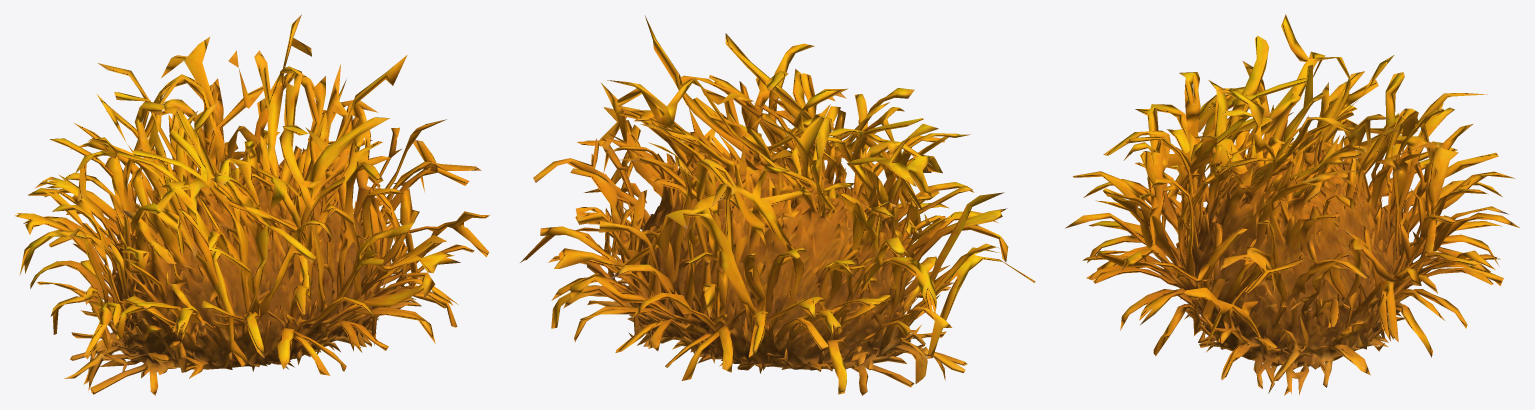
The model's file is 25_金黄色草丛_2048.fbx.
3 views of the same model, side by side, from view 1: azimuth 30°, elevation 25°; view 2: azimuth 150°, elevation 25°; view 3: azimuth 270°, elevation 25° (orthographic). The views are drawn at different scales.
Parts seen in each view (by area): view 1: tripo_node_a80b6877; view 2: tripo_node_a80b6877; view 3: tripo_node_a80b6877.
Part boxes in pixels (bbox=[...]): tripo_node_a80b6877: bbox=[14, 14, 489, 395]; tripo_node_a80b6877: bbox=[520, 16, 1035, 395]; tripo_node_a80b6877: bbox=[1065, 14, 1519, 395].
Bounding box in the file's own units: 0.9638 × 0.6109 × 0.9672.
